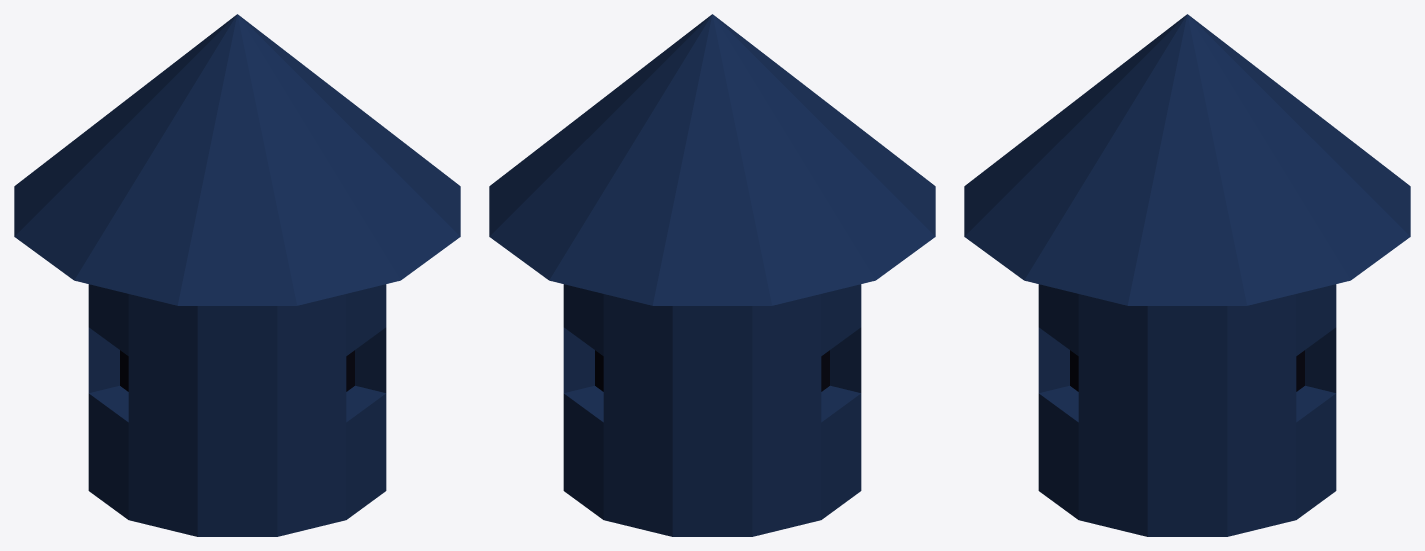
File: MagicalTower.obj
3 renders of one model, left to right at view 1: azimuth 30°, elevation 25°; view 2: azimuth 150°, elevation 25°; view 3: azimuth 270°, elevation 25°, orthographic.
Visible parts, largest first — view 1: polySurface1; view 2: polySurface1; view 3: polySurface1.
Boxes of the visible parts, <box> form: polySurface1: <box>14,14,460,536</box>; polySurface1: <box>489,14,935,536</box>; polySurface1: <box>964,14,1410,536</box>.
Bounding box in the file's own units: 2.9 × 3.3 × 2.9.
